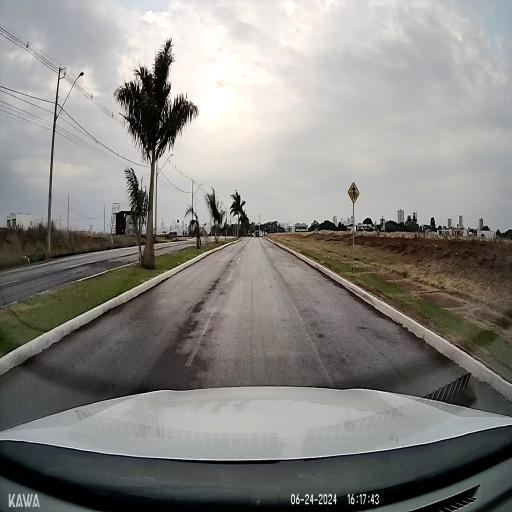A-32b: (347, 180, 360, 204)
